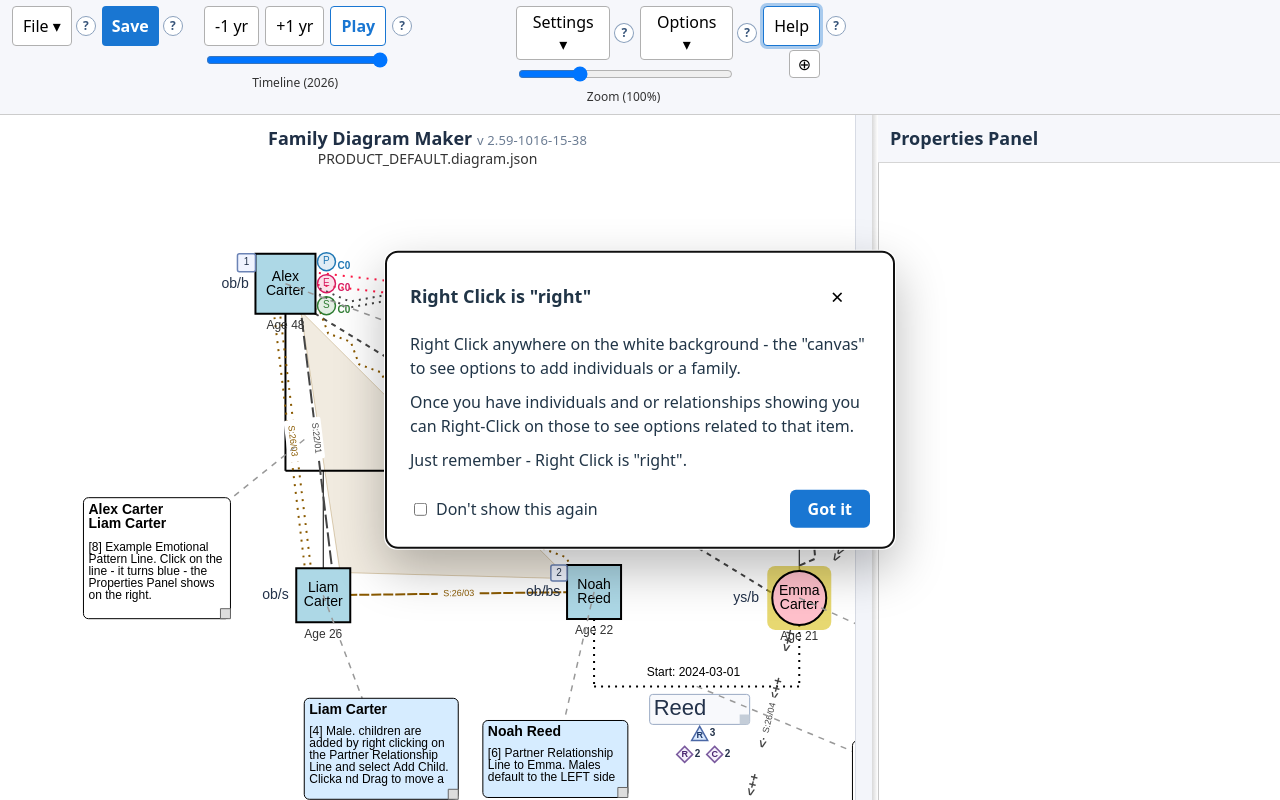
it: DiagramEditor › appends new relationship settings values in insertion order and supports deletion
This screenshot has width=1280, height=800.
Click the button "Settings ▾".
click(563, 33)  # box [516, 6, 610, 60]
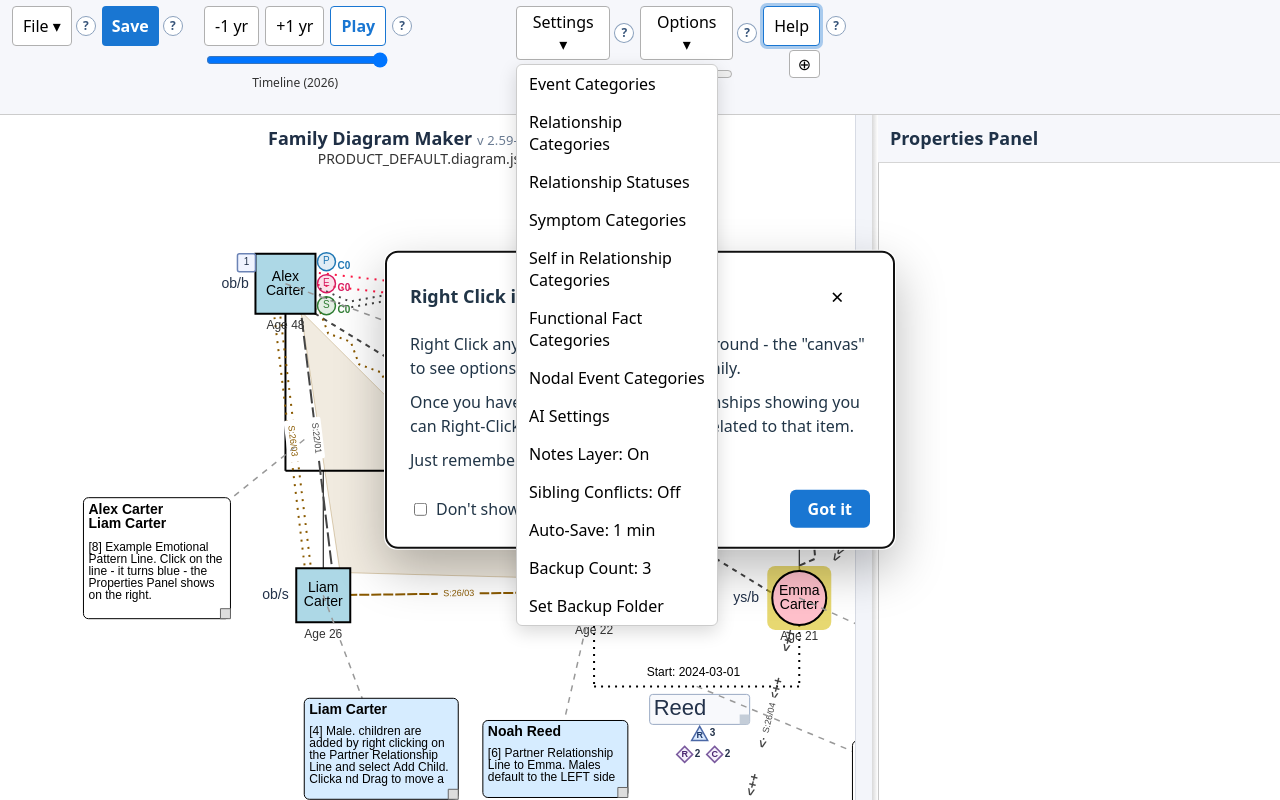
Click the button "Relationship Categories".
click(617, 133)  # box [517, 103, 717, 163]
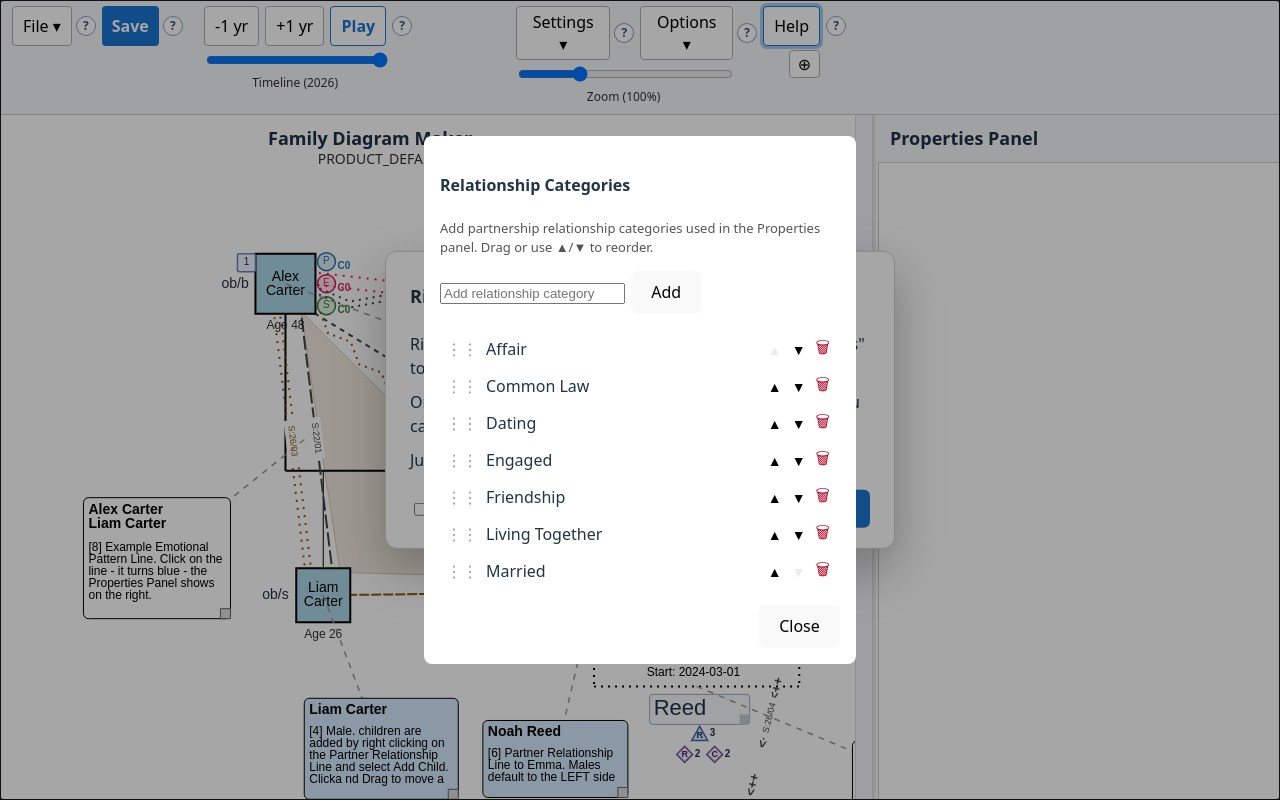
Type "zeta" into the field with placeholder "Add relationship category".
click(532, 294); type("zeta")  # box [440, 283, 625, 304]
Click the button "Add".
click(666, 292)  # box [631, 271, 701, 314]
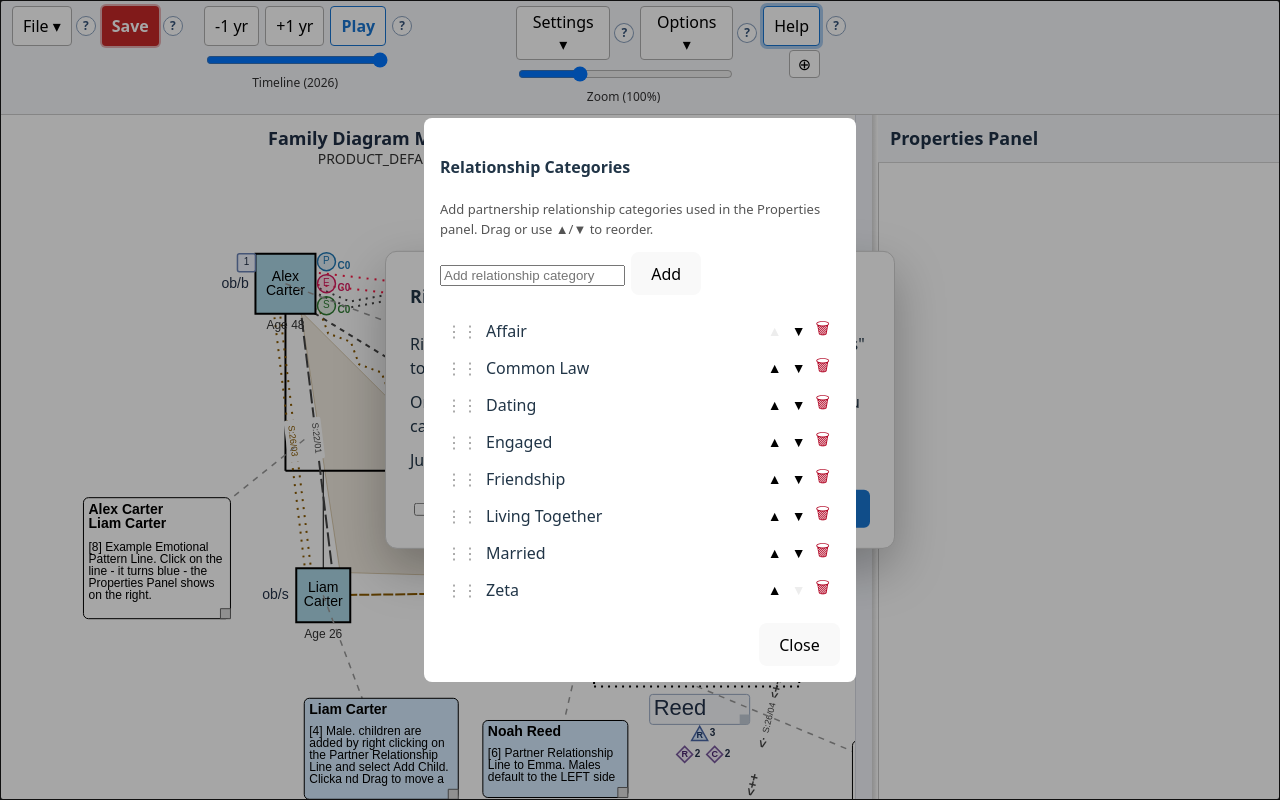
Type "alpha" into the field with placeholder "Add relationship category".
click(532, 275); type("alpha")  # box [440, 265, 625, 286]
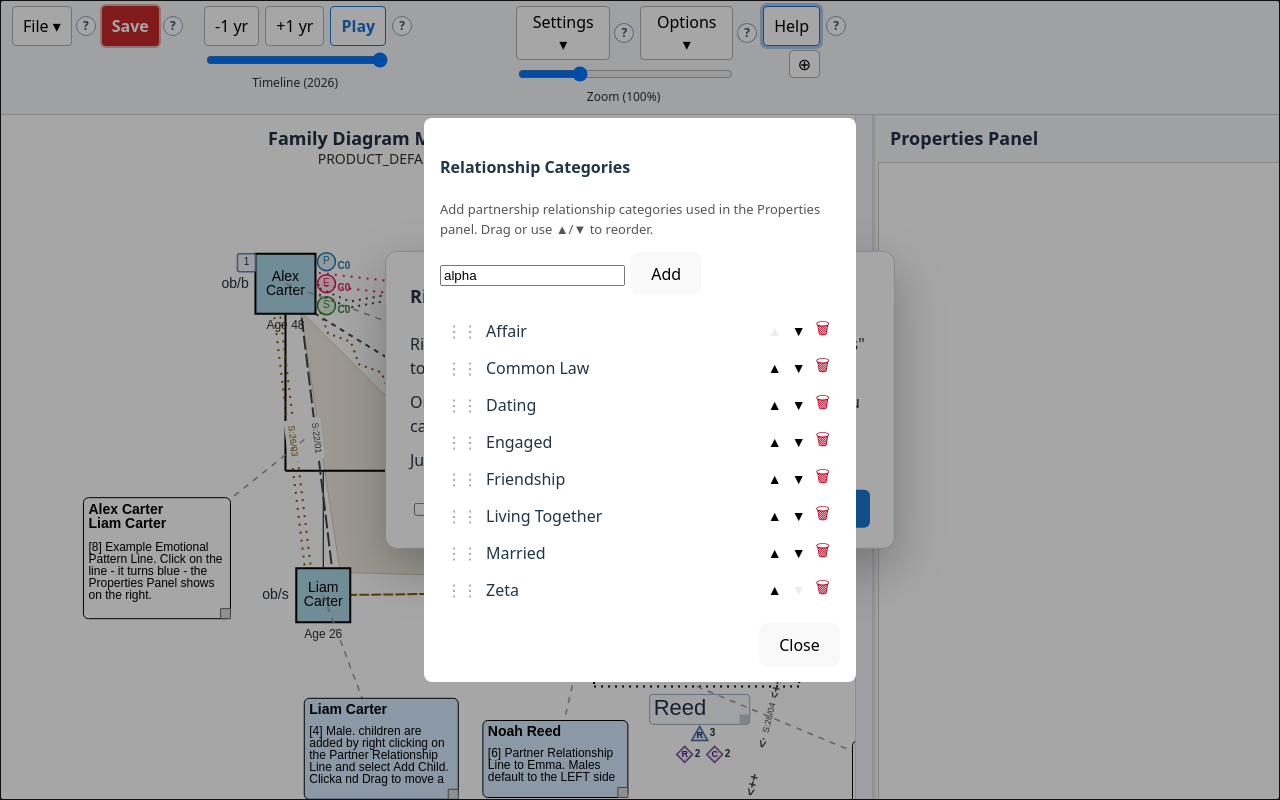
Click the button "Add".
click(666, 274)  # box [631, 252, 701, 295]
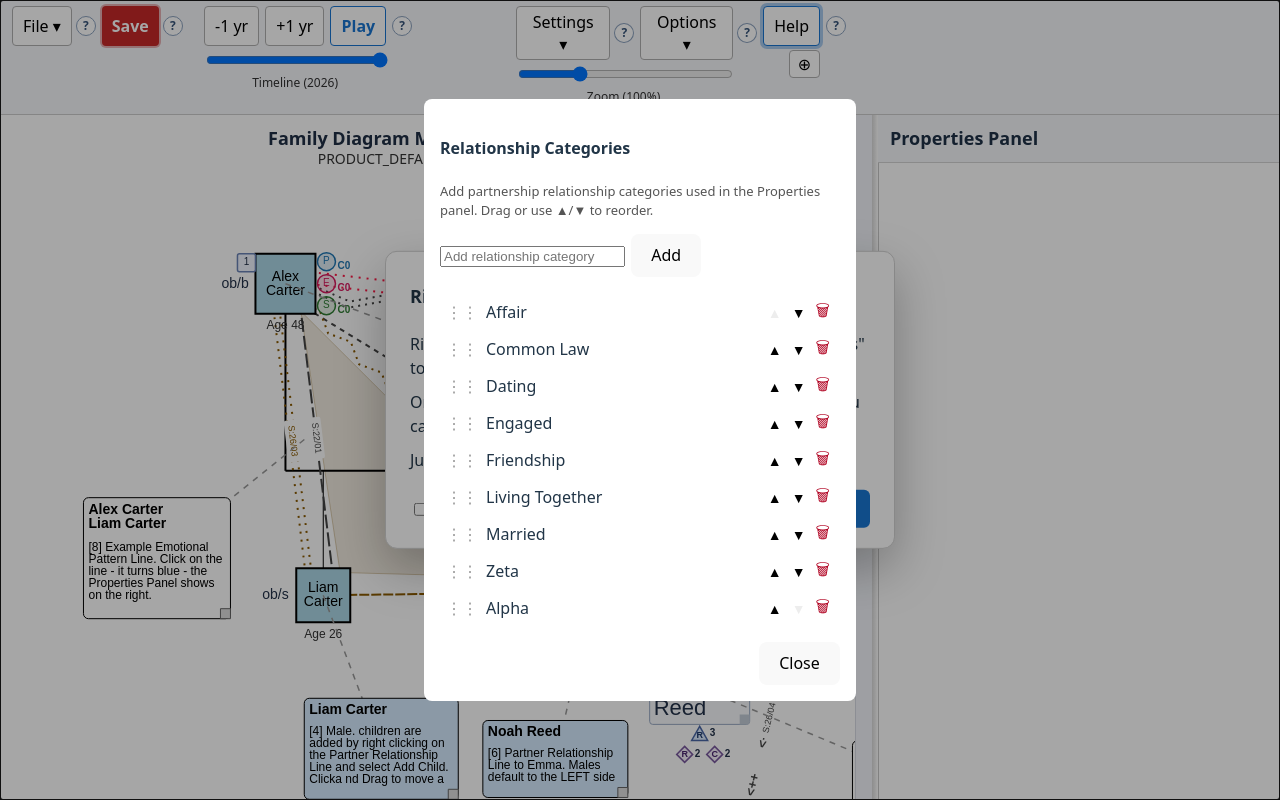
Click the button named "Delete".
click(823, 608)  # box [812, 595, 834, 622]
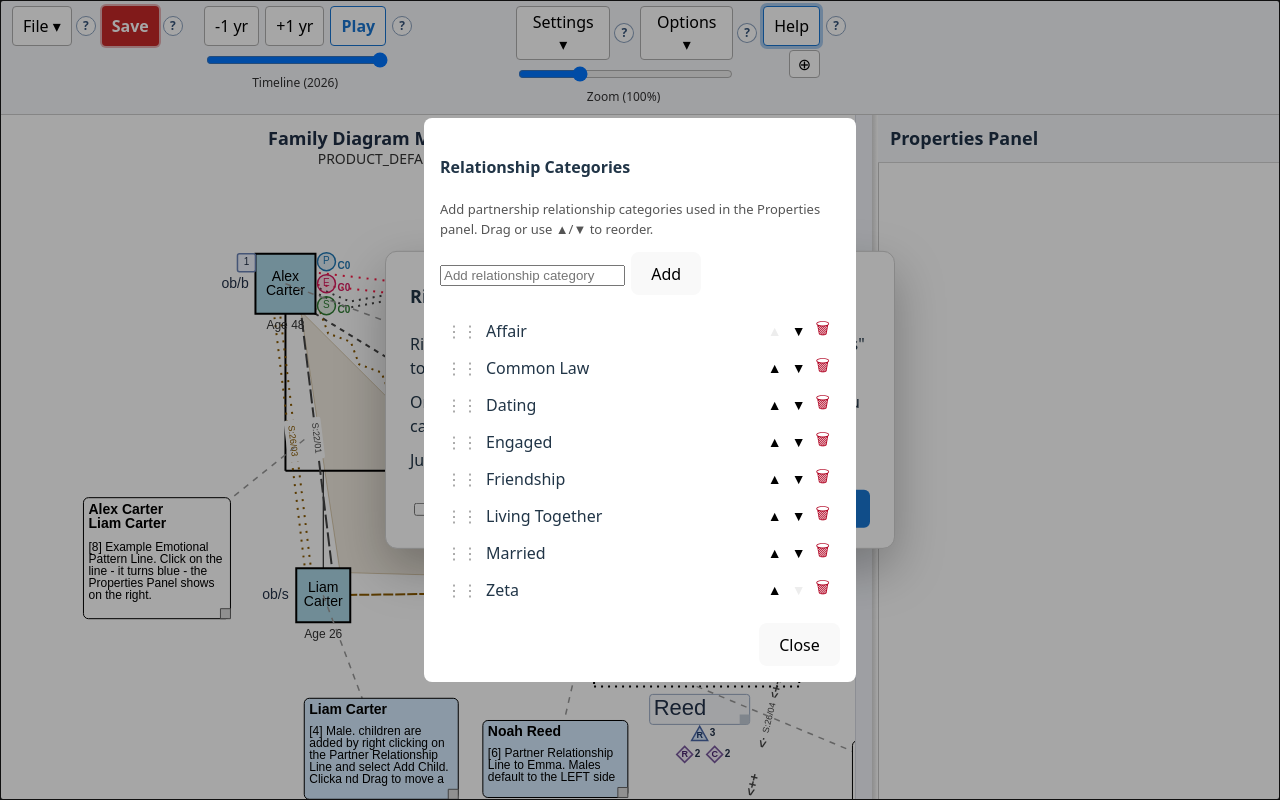
Expected: the text "Alpha" is gone
